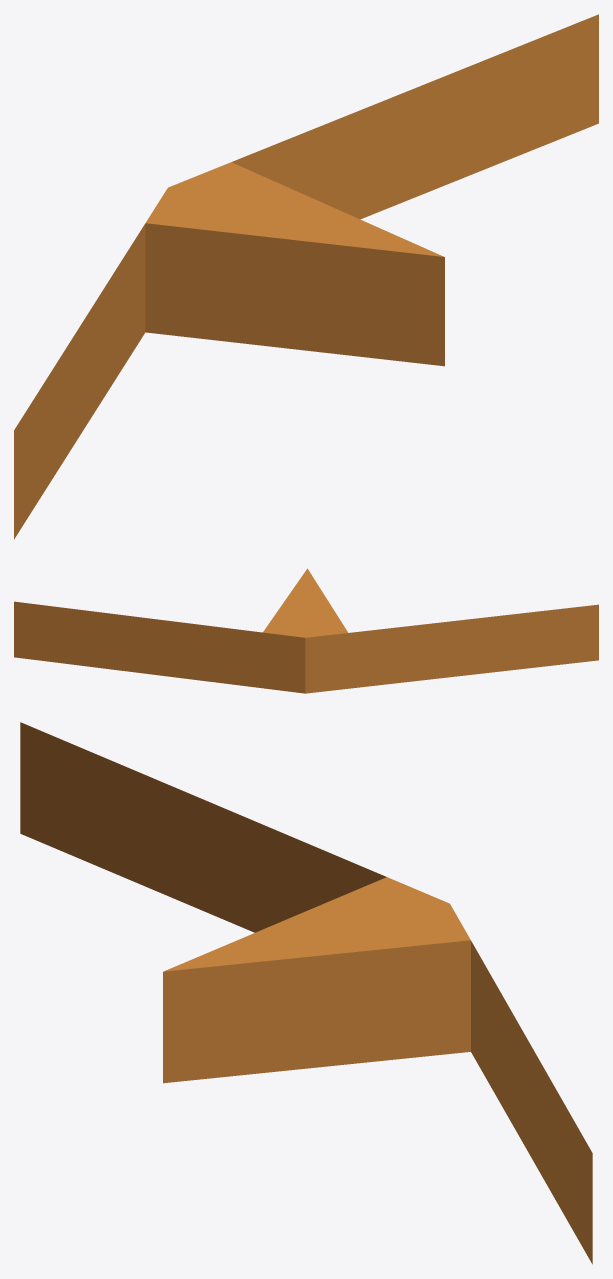
3 views of the same model, one above another, from view 1: azimuth 30°, elevation 25°; view 2: azimuth 150°, elevation 25°; view 3: azimuth 270°, elevation 25° (orthographic). The views are drawn at different scales.
Parts seen in each view (by area): view 1: CORNER-A-28-p6; view 2: CORNER-A-28-p6; view 3: CORNER-A-28-p6.
Boxes of the visible parts, x1,y1,x2,y2 form: CORNER-A-28-p6: (14,14,598,539); CORNER-A-28-p6: (14,568,598,693); CORNER-A-28-p6: (20,722,592,1264).
Bounding box in the file's own units: 0.29 × 0.035 × 0.1627.
